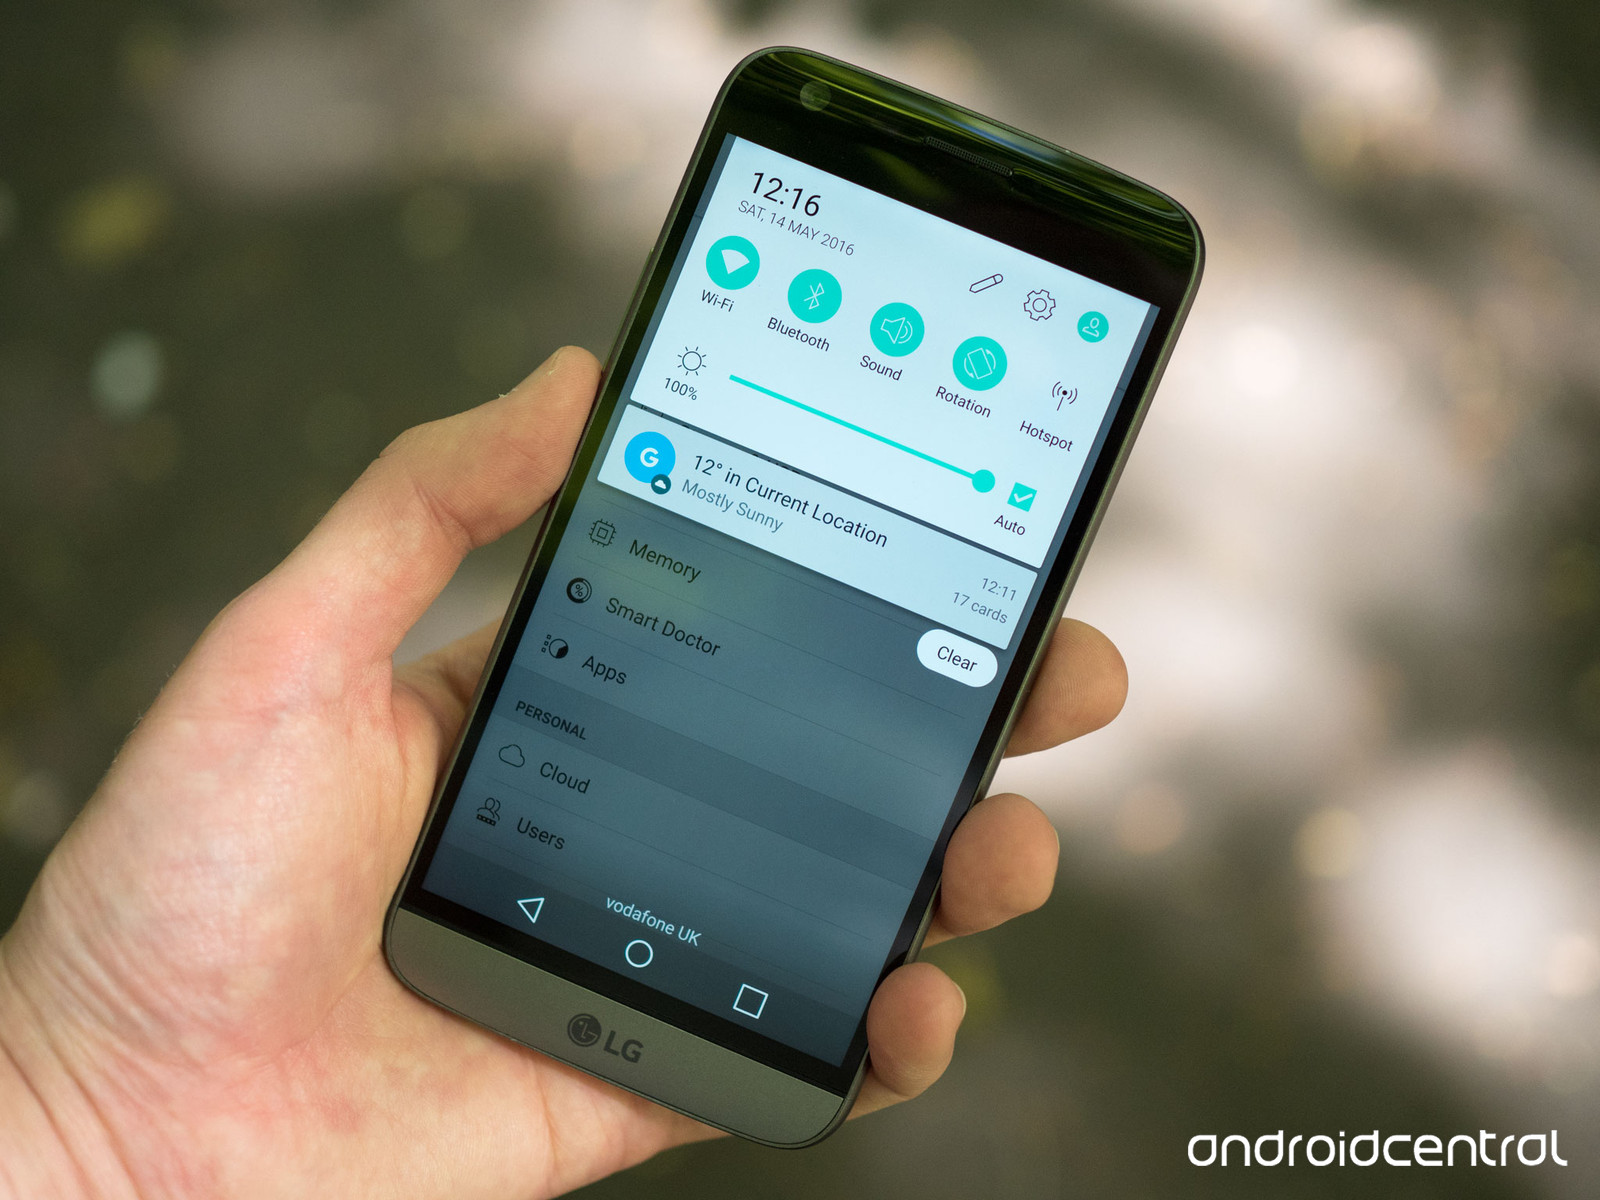smartphone: (379, 45, 1206, 1150)
